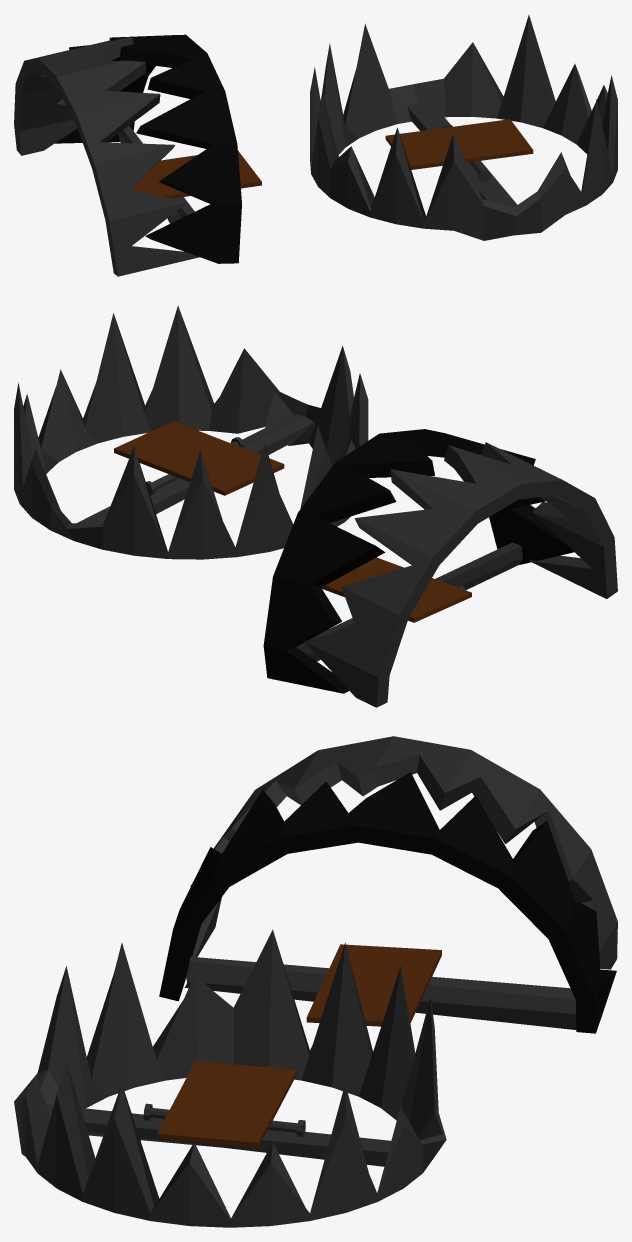
Rendered from traps.glb.
3 views of the same model, one above another, from view 1: azimuth 30°, elevation 25°; view 2: azimuth 150°, elevation 25°; view 3: azimuth 270°, elevation 25° (orthographic). The views are drawn at different scales.
Visible parts, largest first — view 1: BearTrap_Open_0, BearTrap_Closed_1; view 2: BearTrap_Closed_1, BearTrap_Open_0; view 3: BearTrap_Open_0, BearTrap_Closed_1.
Part boxes in pixels (x1=…): BearTrap_Open_0: x1=310, y1=15, x2=617, y2=240; BearTrap_Closed_1: x1=14, y1=34, x2=261, y2=276; BearTrap_Closed_1: x1=263, y1=429, x2=617, y2=707; BearTrap_Open_0: x1=14, y1=306, x2=368, y2=559; BearTrap_Open_0: x1=14, y1=929, x2=446, y2=1227; BearTrap_Closed_1: x1=159, y1=736, x2=617, y2=1033.
Bounding box in the file's own units: 1.54 × 0.4661 × 1.2.
